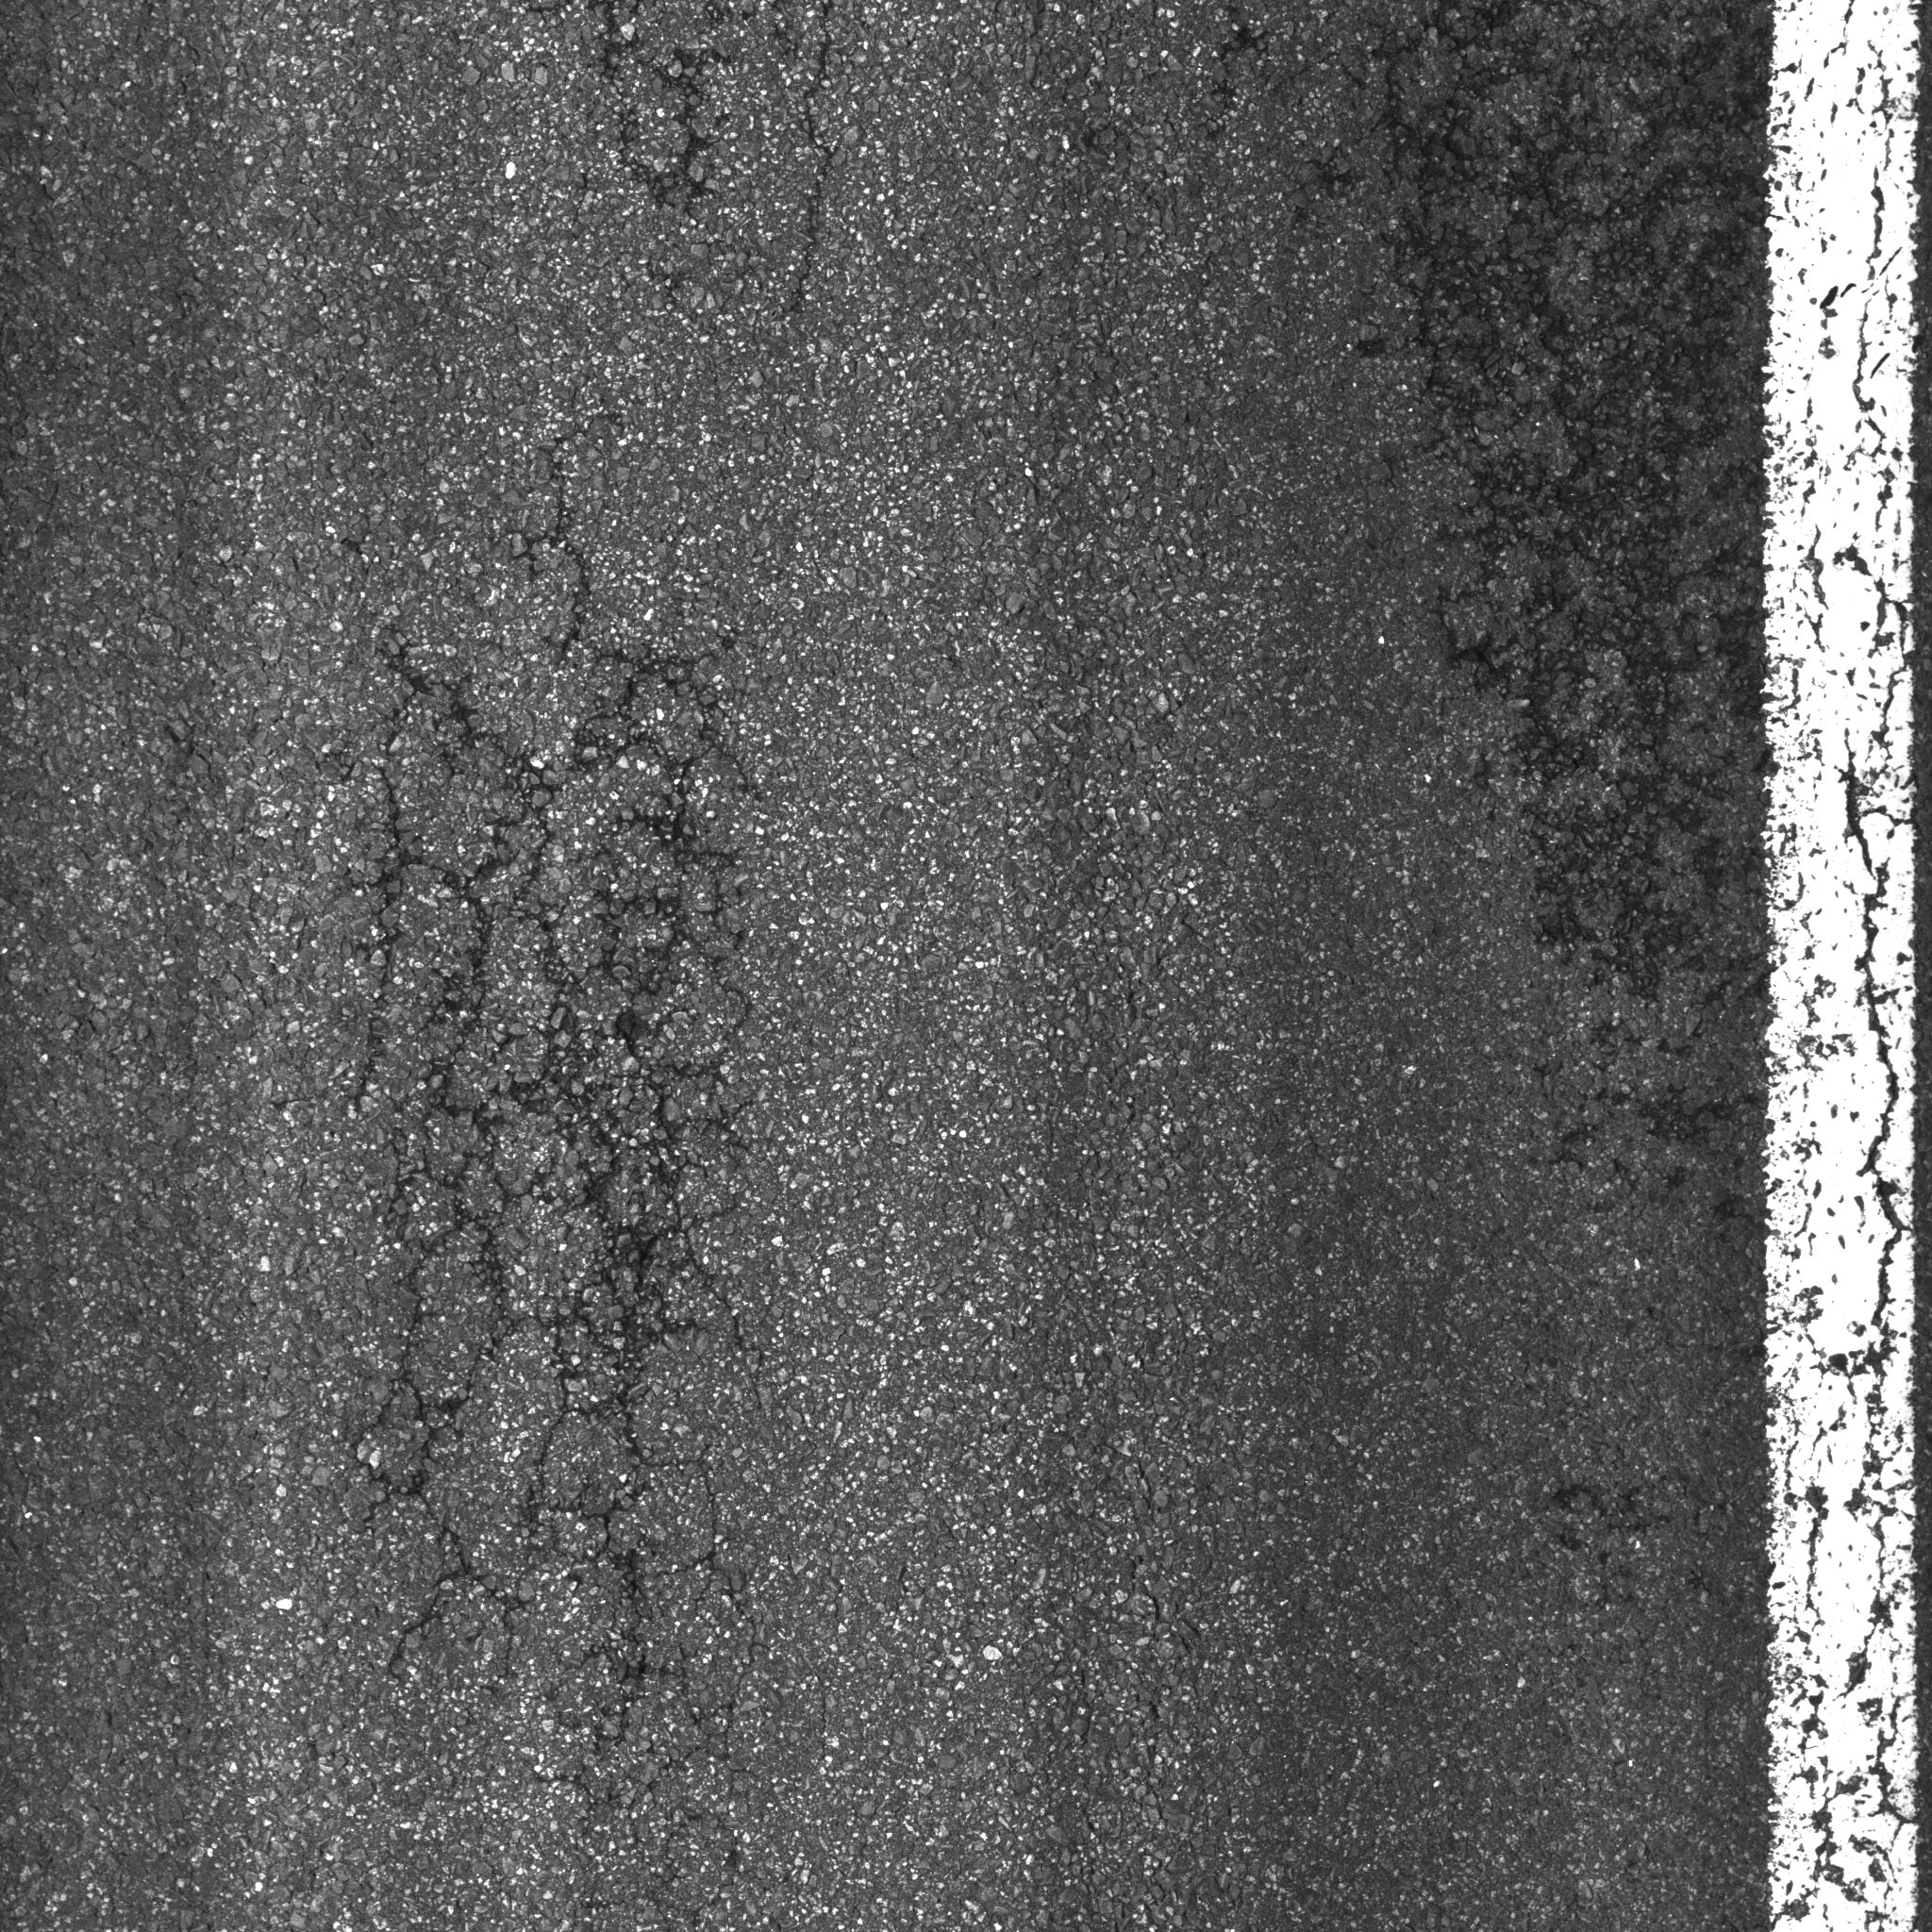alligator: (1348, 4, 1932, 1373), (257, 451, 862, 1759)
